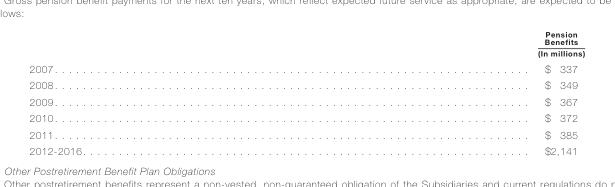table: (28, 29, 584, 156)
table column: (28, 29, 310, 156), (310, 29, 584, 156)
table column header: (28, 29, 584, 60)
table row: (28, 29, 584, 60), (28, 76, 584, 93), (28, 125, 584, 142), (28, 60, 584, 76), (28, 93, 584, 109), (28, 109, 584, 125), (28, 142, 584, 156)
